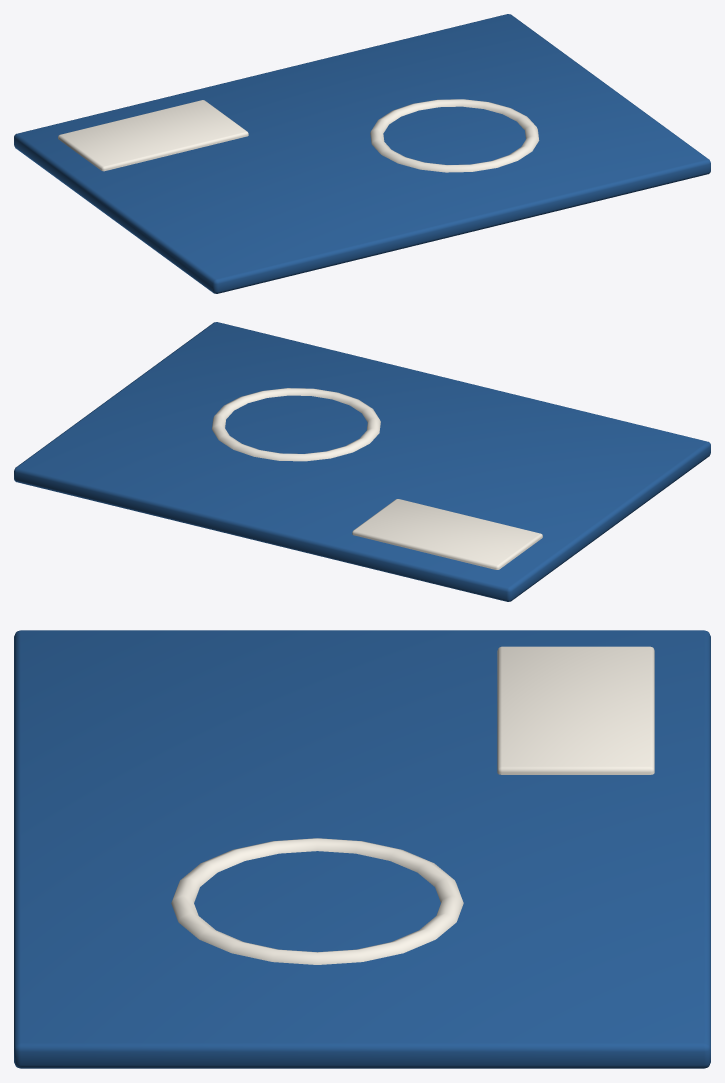
File: Doc_BlueprintSheet.fbx
3 views of the same model, one above another, from view 1: azimuth 30°, elevation 25°; view 2: azimuth 150°, elevation 25°; view 3: azimuth 270°, elevation 25° (orthographic). The views are drawn at different scales.
Parts seen in each view (by area): view 1: Blueprint_Base, Blueprint_TitleBlock, Blueprint_CompassRing; view 2: Blueprint_Base, Blueprint_TitleBlock, Blueprint_CompassRing; view 3: Blueprint_Base, Blueprint_TitleBlock, Blueprint_CompassRing.
Boxes of the visible parts, <box> form: Blueprint_Base: <box>14,14,710,293</box>; Blueprint_TitleBlock: <box>58,100,248,171</box>; Blueprint_CompassRing: <box>370,99,539,172</box>; Blueprint_Base: <box>14,322,710,601</box>; Blueprint_TitleBlock: <box>352,499,542,569</box>; Blueprint_CompassRing: <box>212,388,380,461</box>; Blueprint_Base: <box>14,630,710,1068</box>; Blueprint_TitleBlock: <box>497,646,654,774</box>; Blueprint_CompassRing: <box>171,838,463,964</box>.
Bounding box in the file's own units: 8.8 × 0.33 × 6.2.
